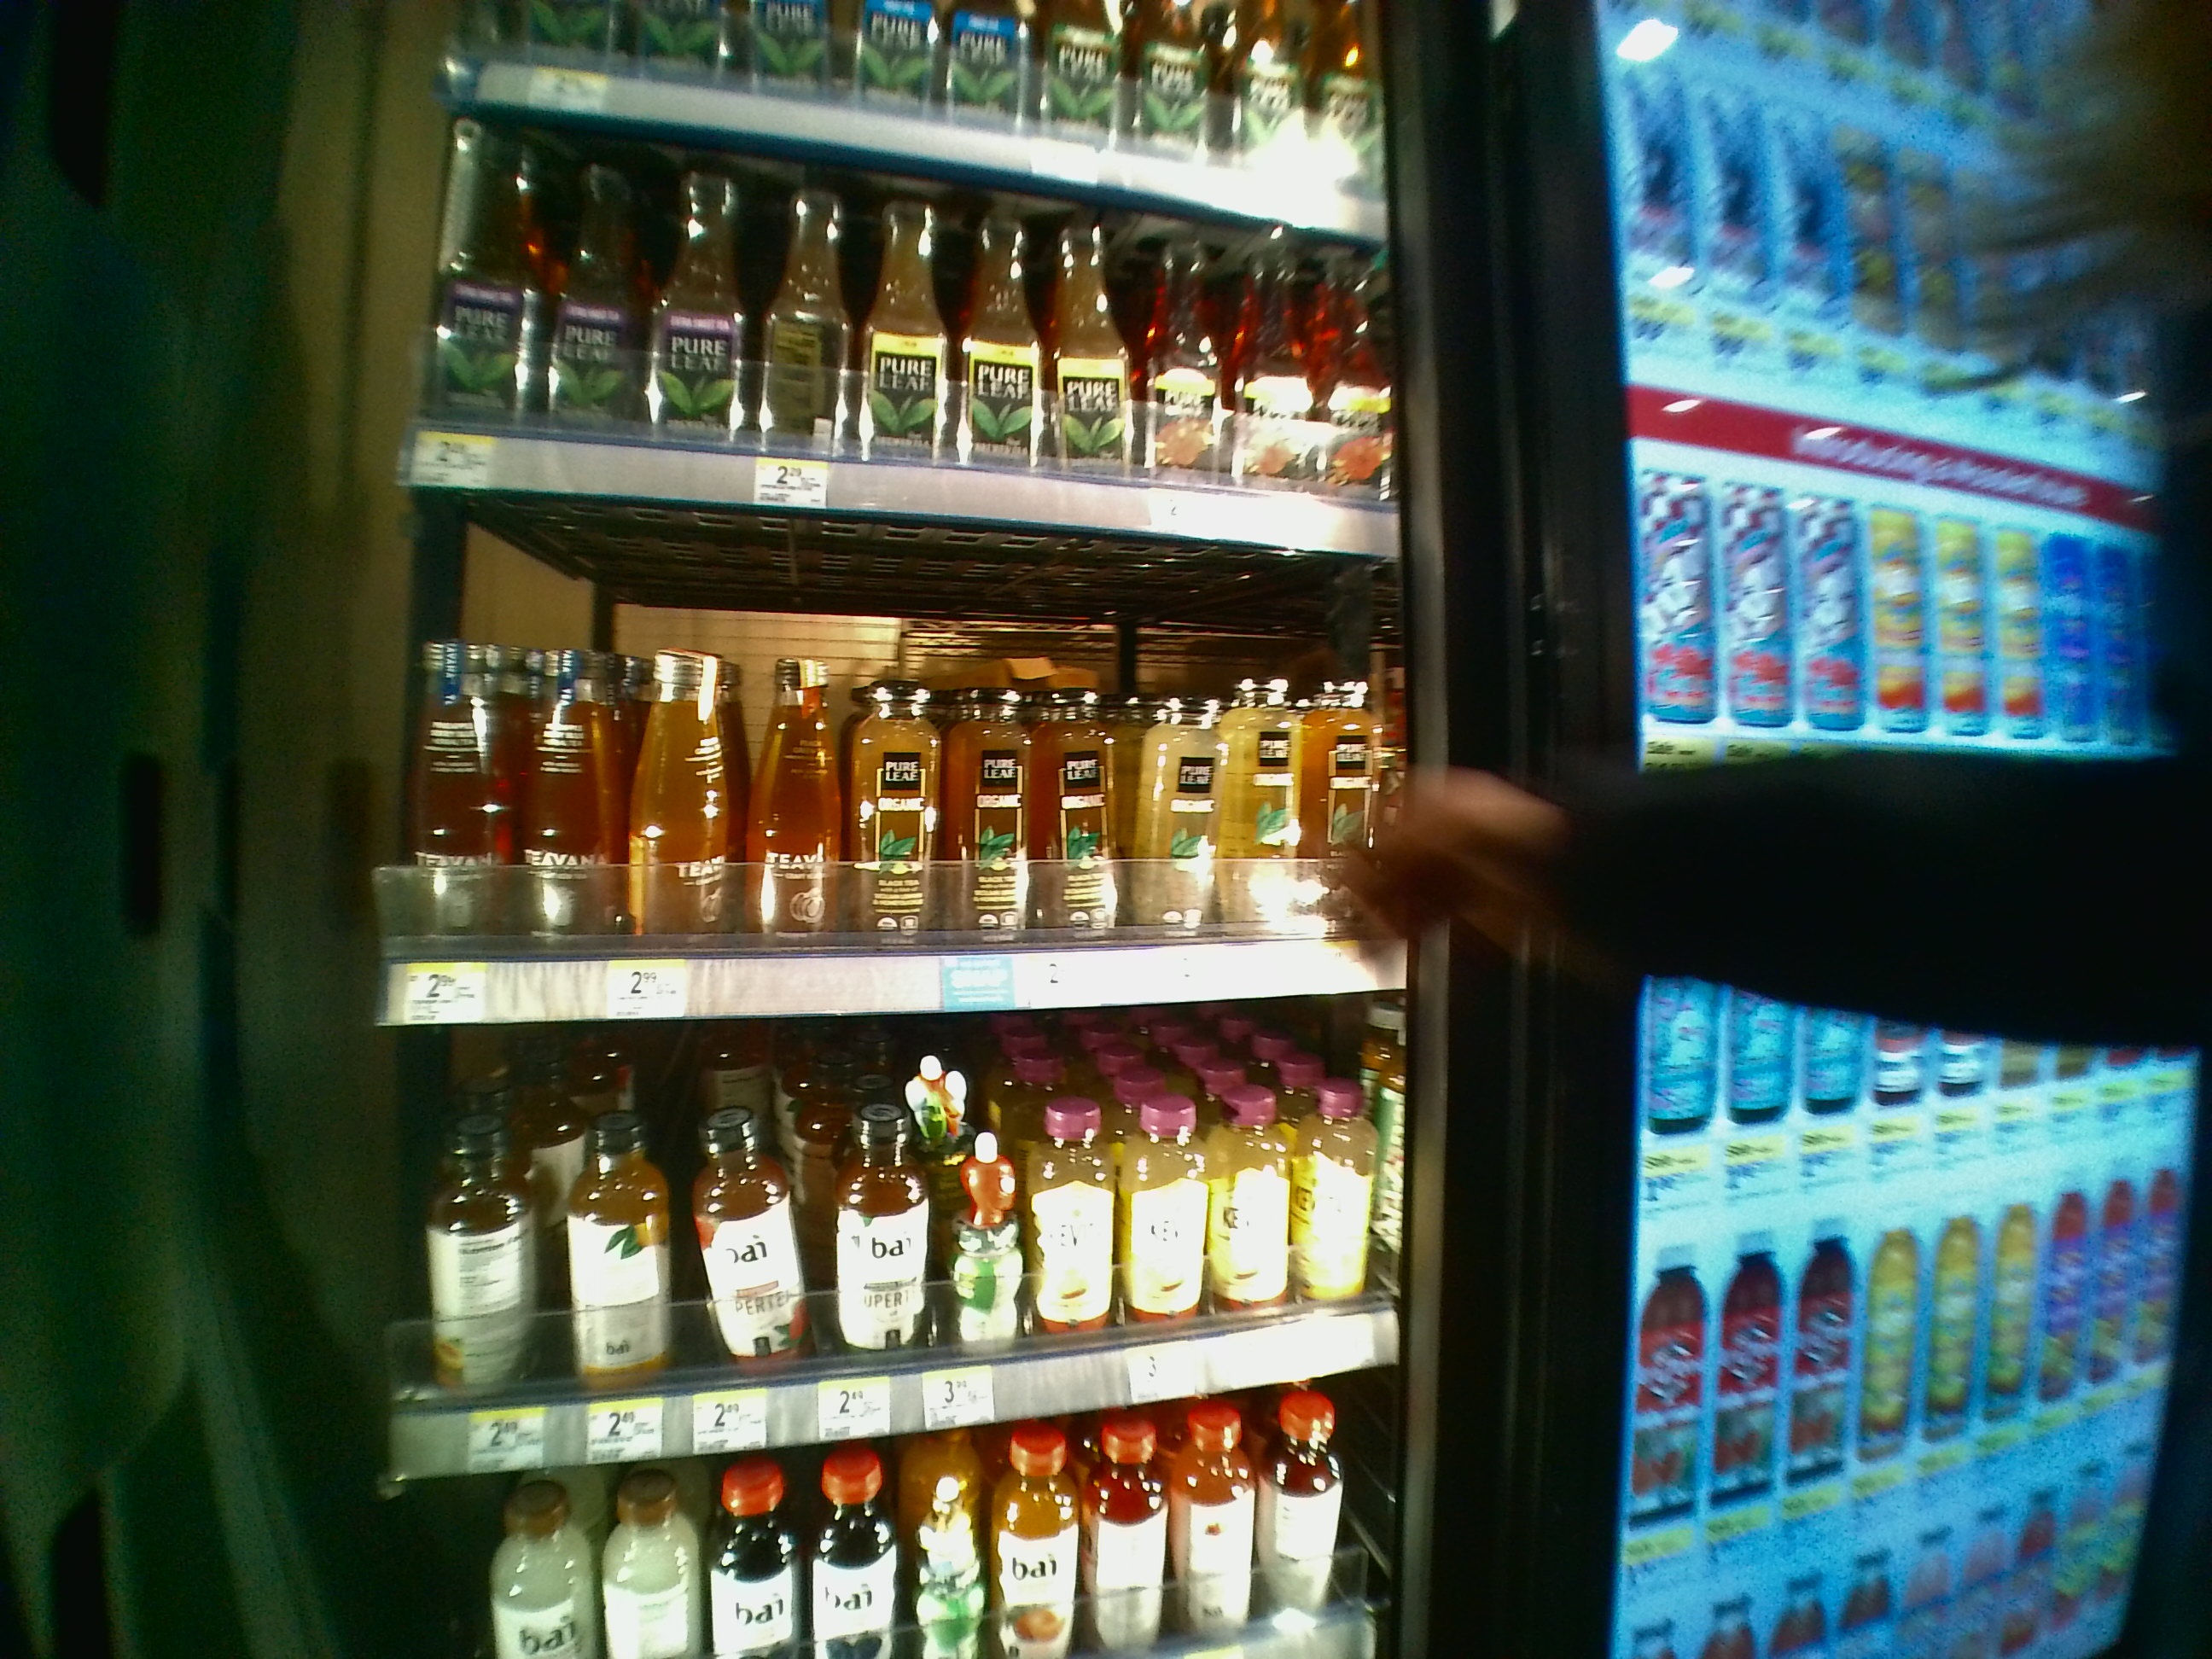shelf: (369, 498, 1420, 1025), (380, 1040, 1416, 1480)
